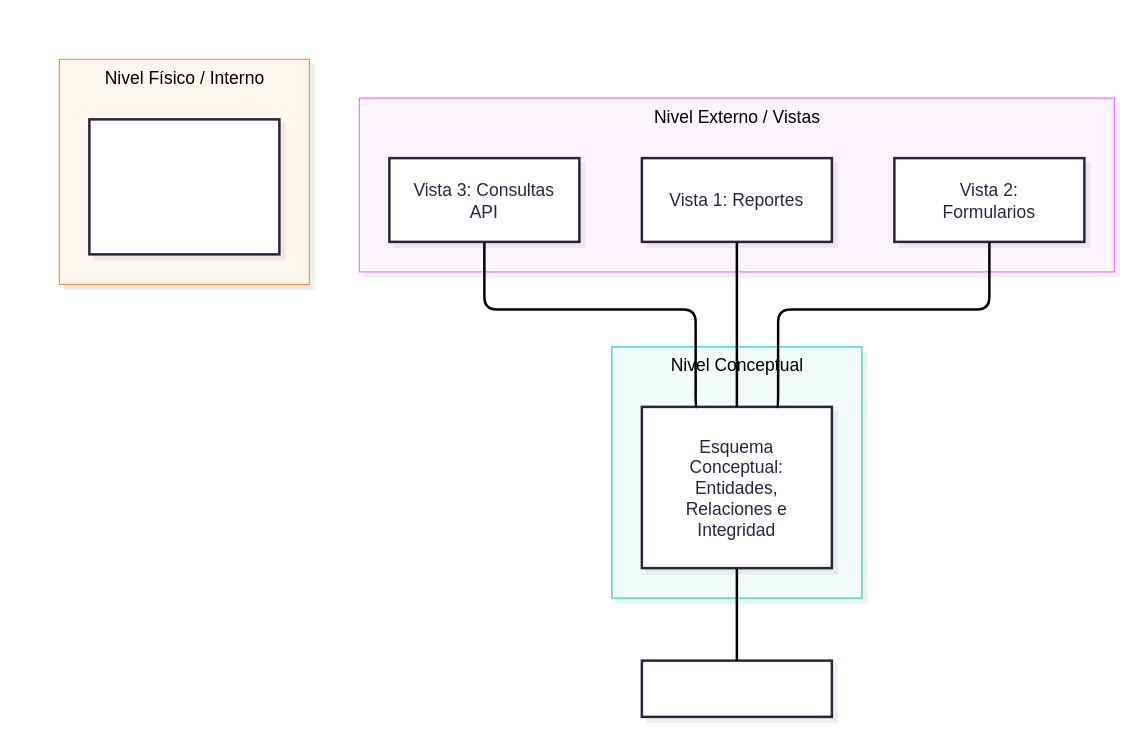
This 1141x744 diagram has some shape labels left out. The centre of each missing label's shape, as x and y in pixels:
"ESQ" goes at point (739, 690).
"Esquema Físico: Archivos, Índices y Almacenamiento" goes at point (186, 189).
